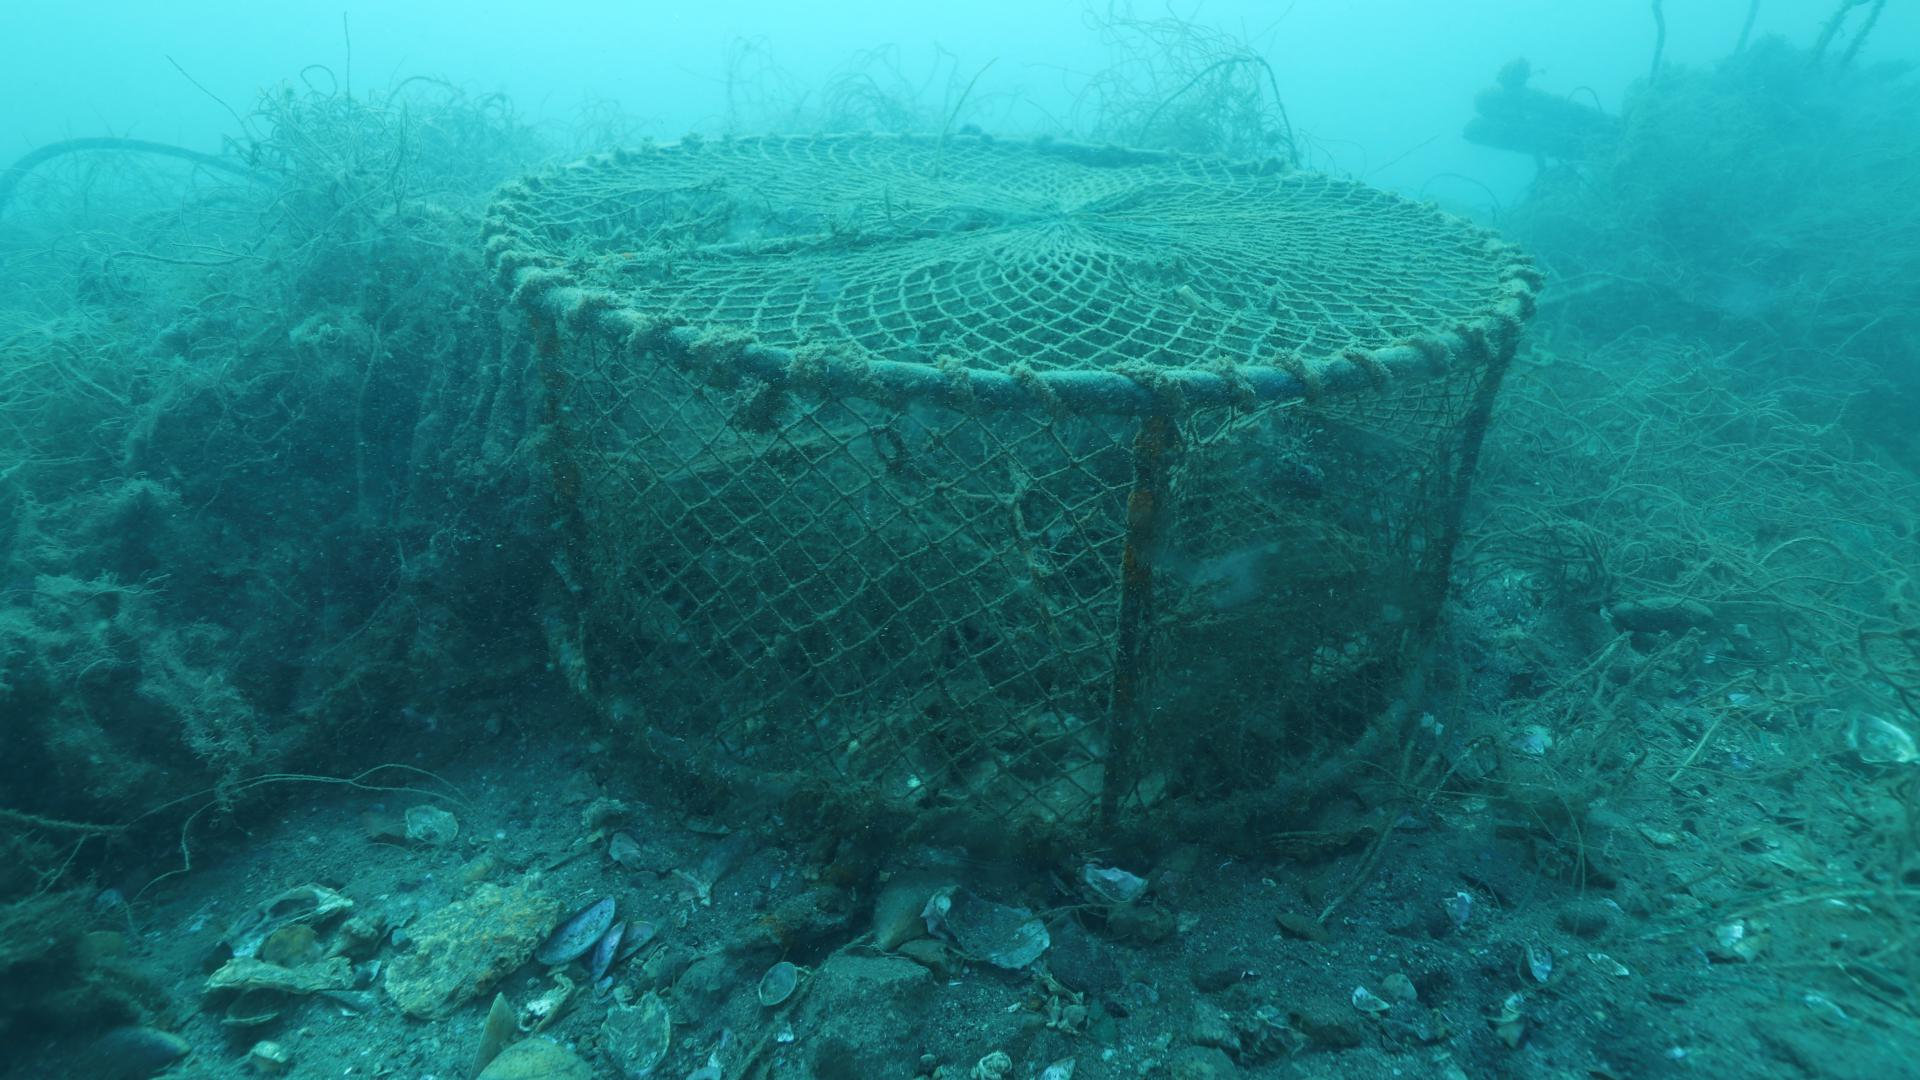circular fish trap: (487, 124, 1539, 852)
